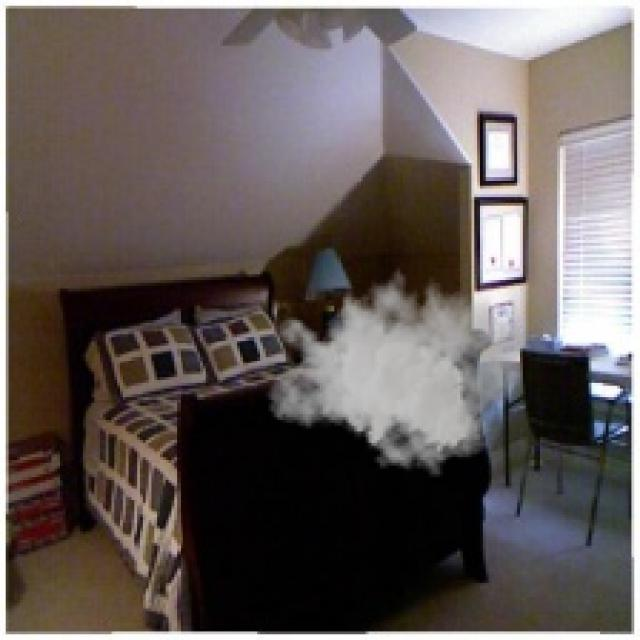smoke: (266, 257, 523, 477)
